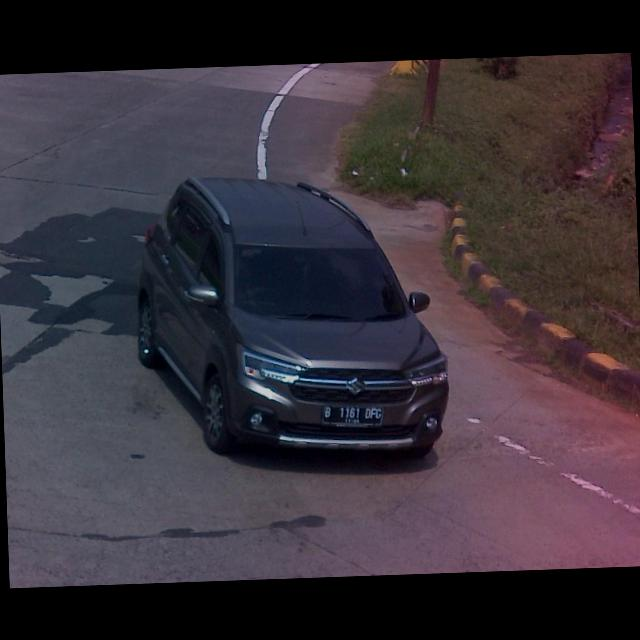plate: (320, 399, 387, 431)
